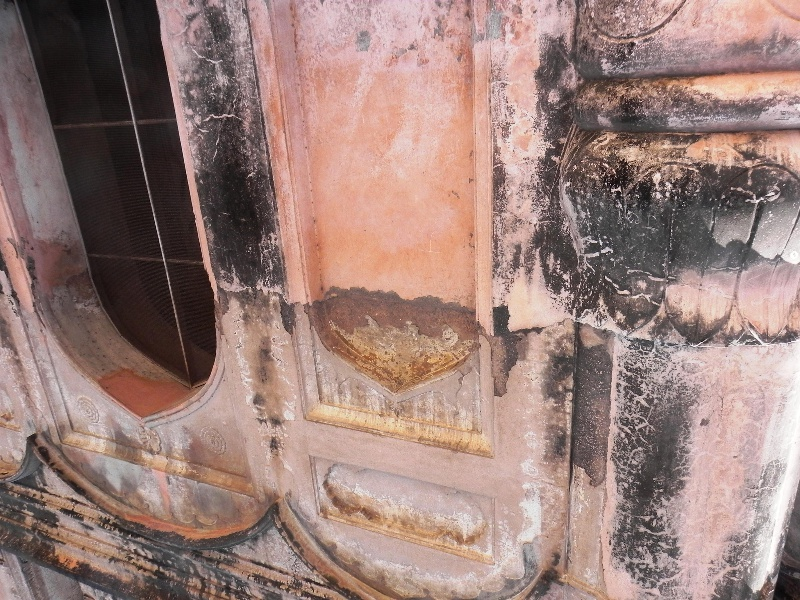Spalling: (295, 275, 474, 349), (482, 301, 522, 401)
